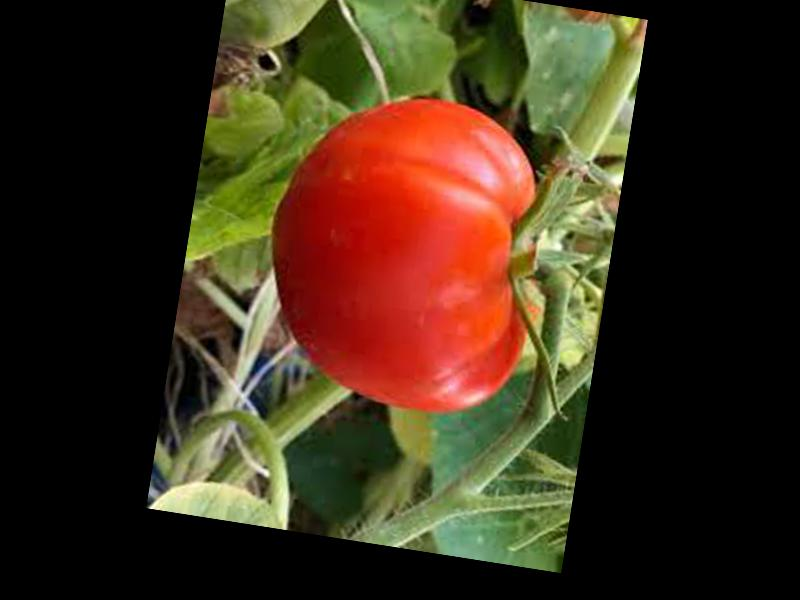Tomato: (251, 77, 558, 427)
